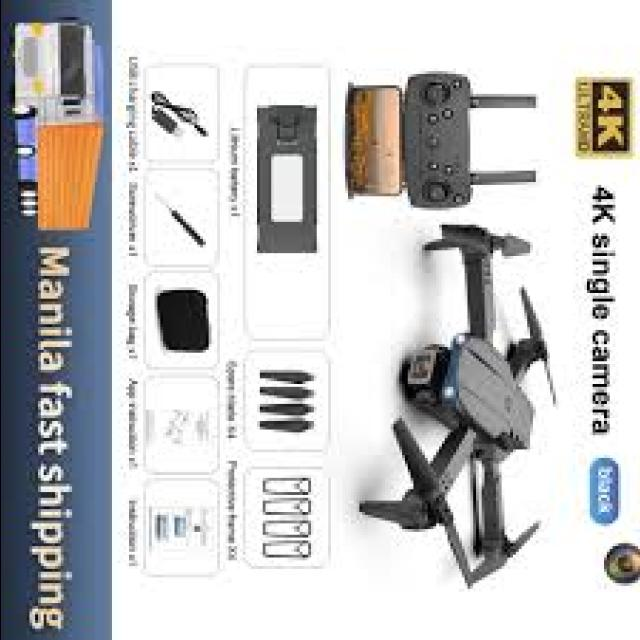drone: (356, 213, 570, 602)
